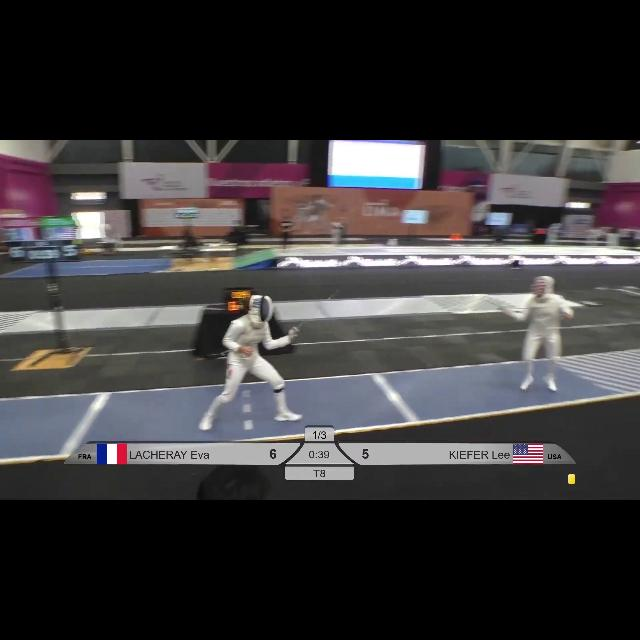blade: (293, 280, 352, 334)
